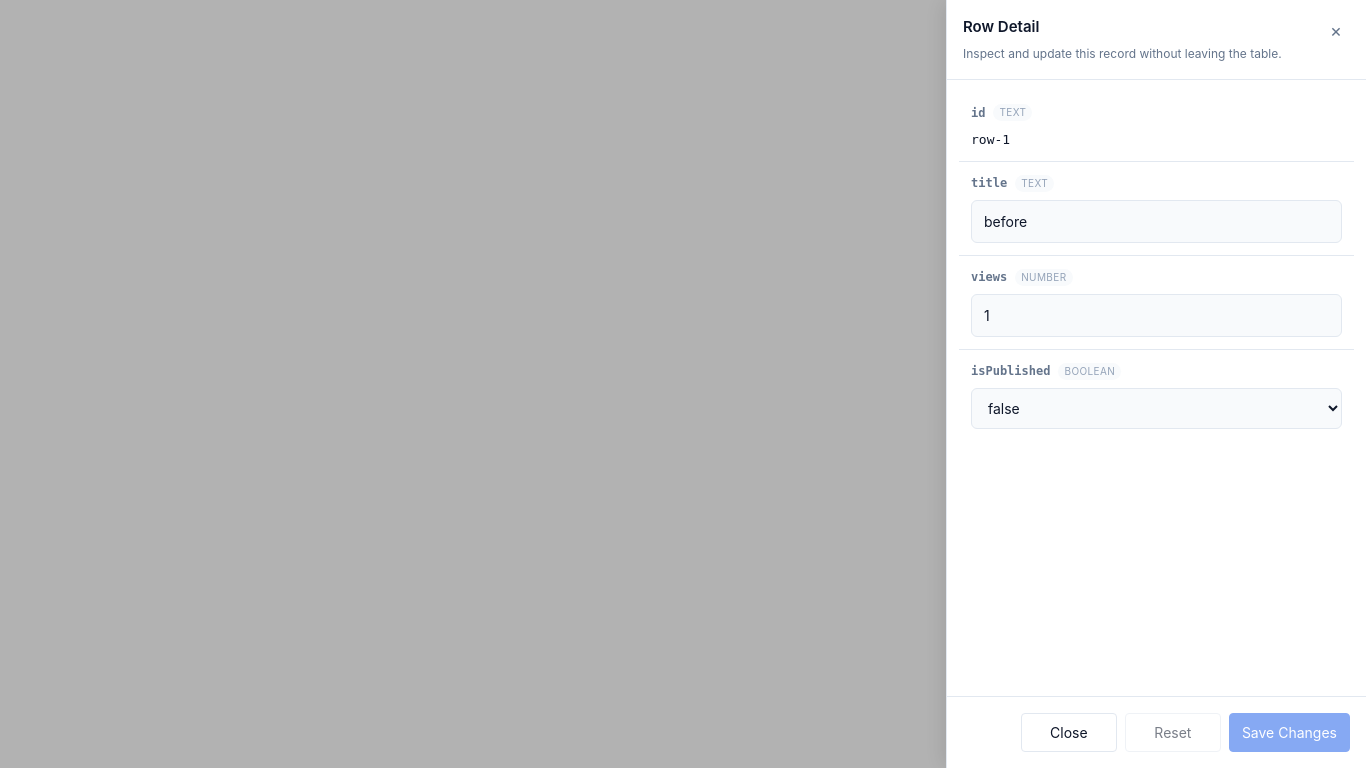
Test case: RowDetailPanel › allows editing a row and saves parsed changes
Replace the text in the field labelled "title" with "after": (1156, 222) [971,200,1342,243]
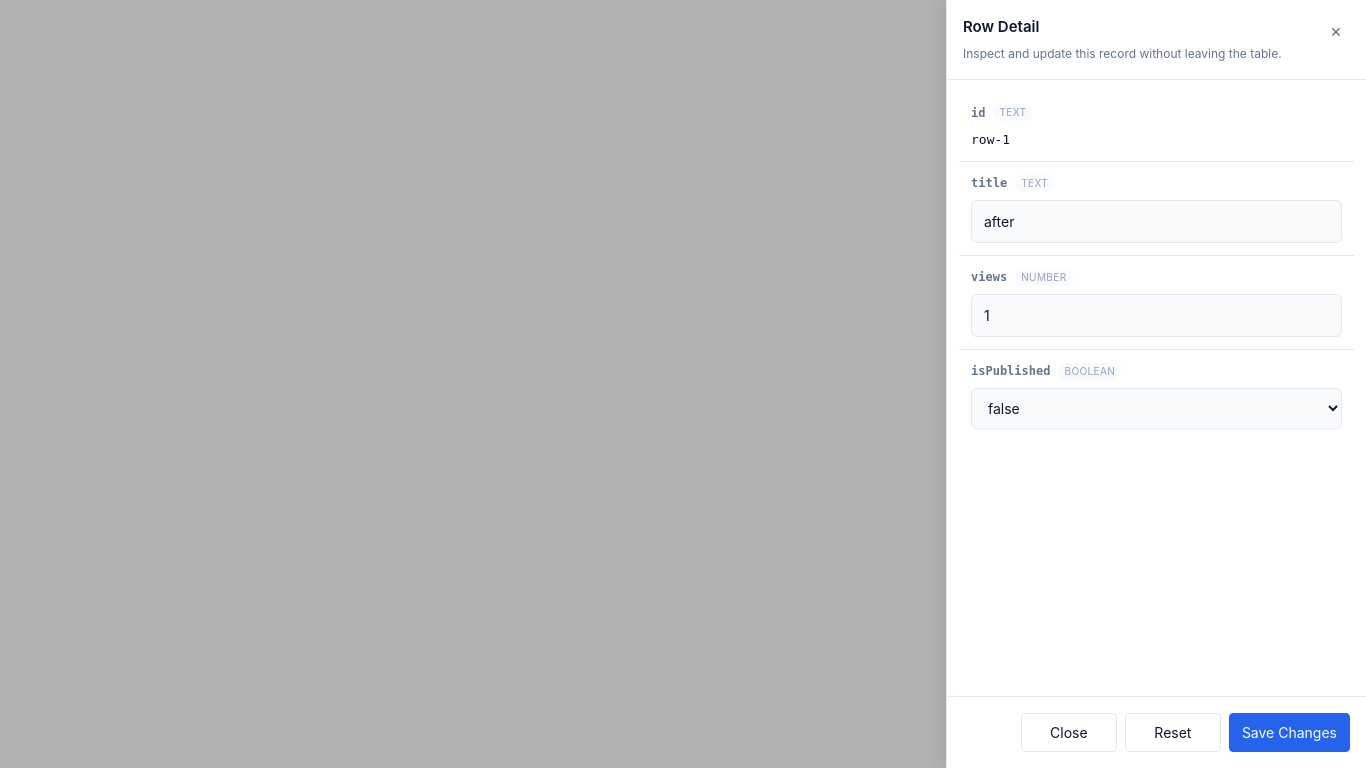
Replace the text in the number field labelled "views" with "42": (1156, 316) [971,294,1342,337]
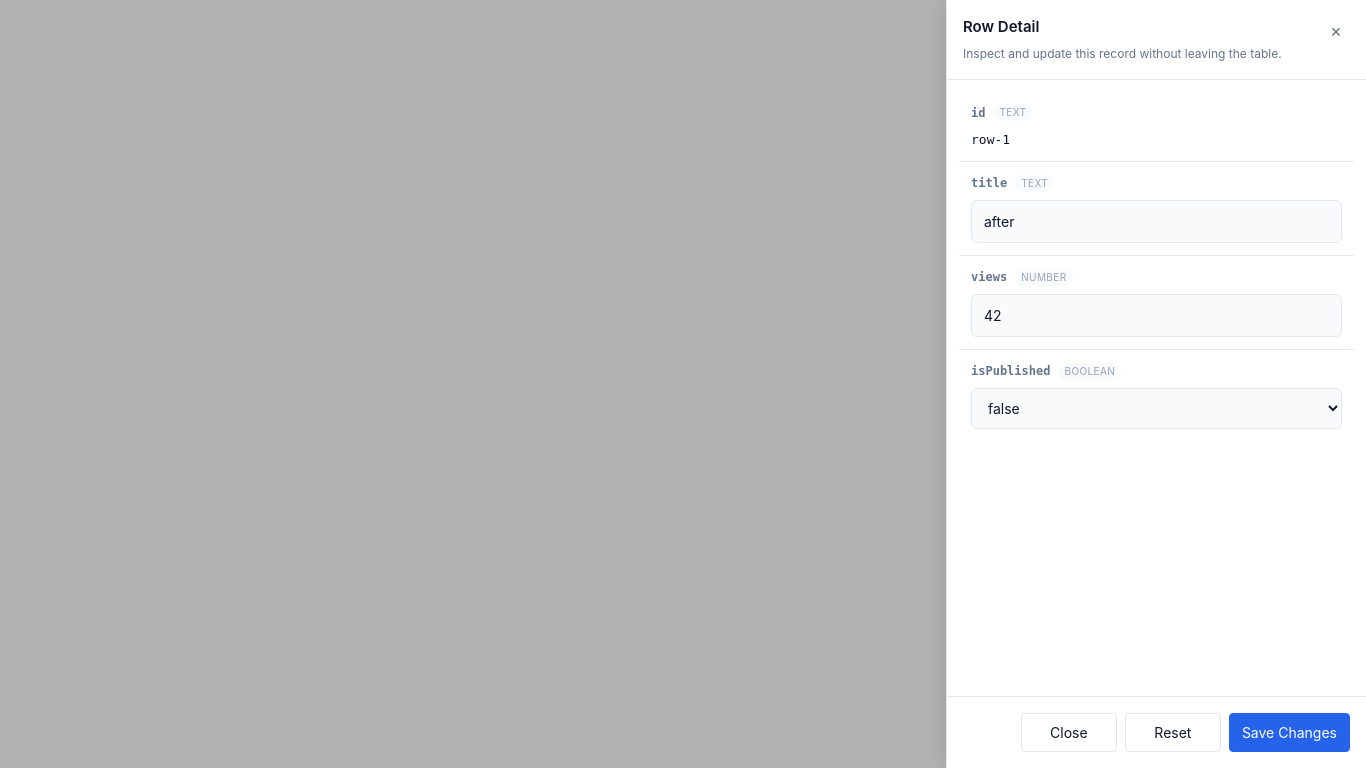
Select "true" in the dropdown labelled "isPublished": (1156, 408) [971,388,1342,429]
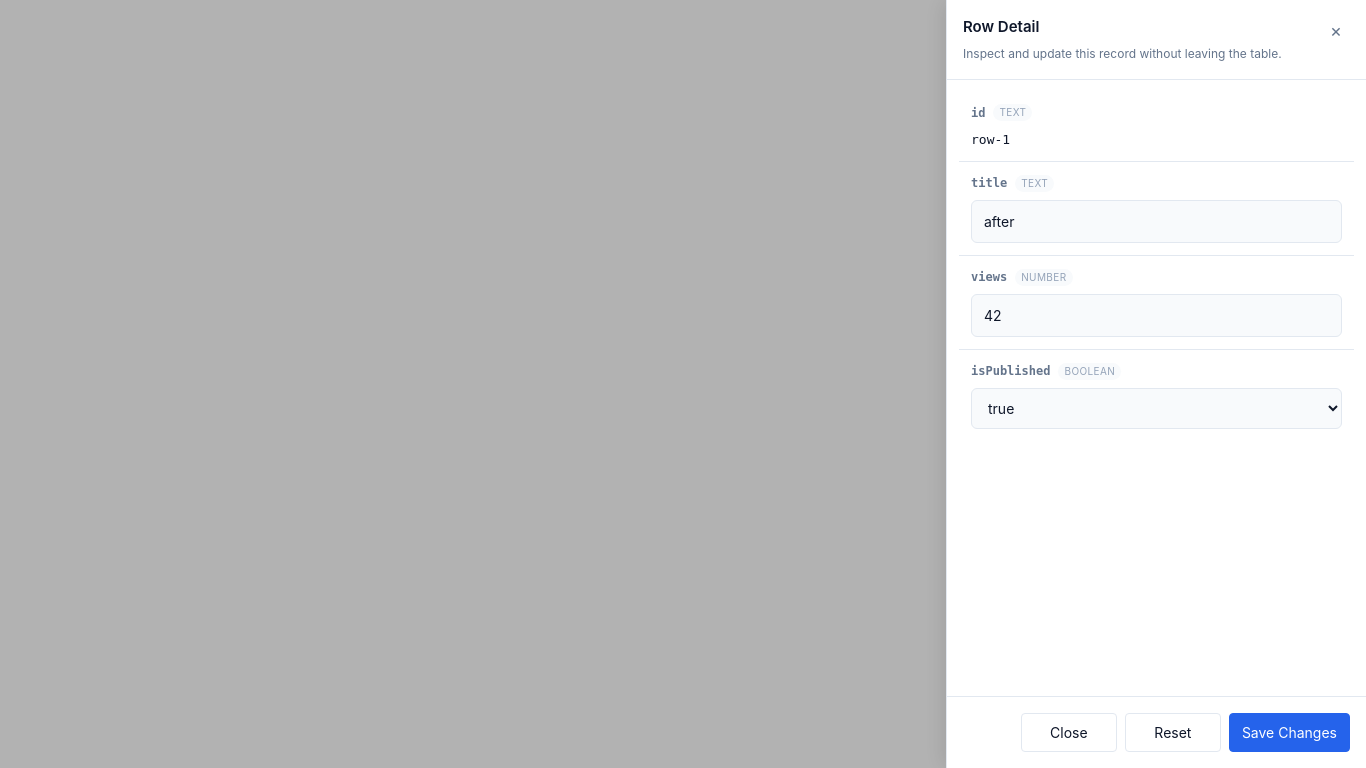
Click the button "Save Changes": (1289, 732) [1229,713,1350,752]
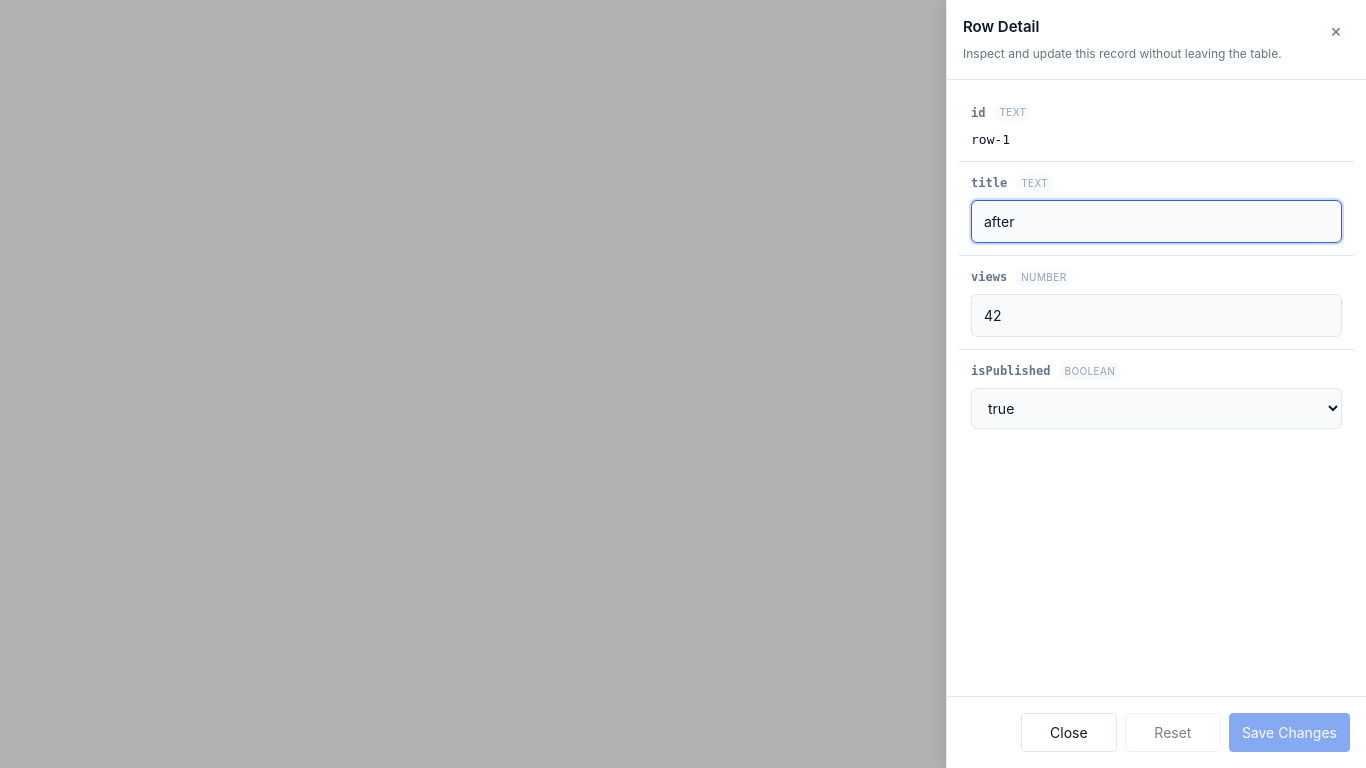
Now the button "Save Changes" is disabled, box [1229,713,1350,752]
